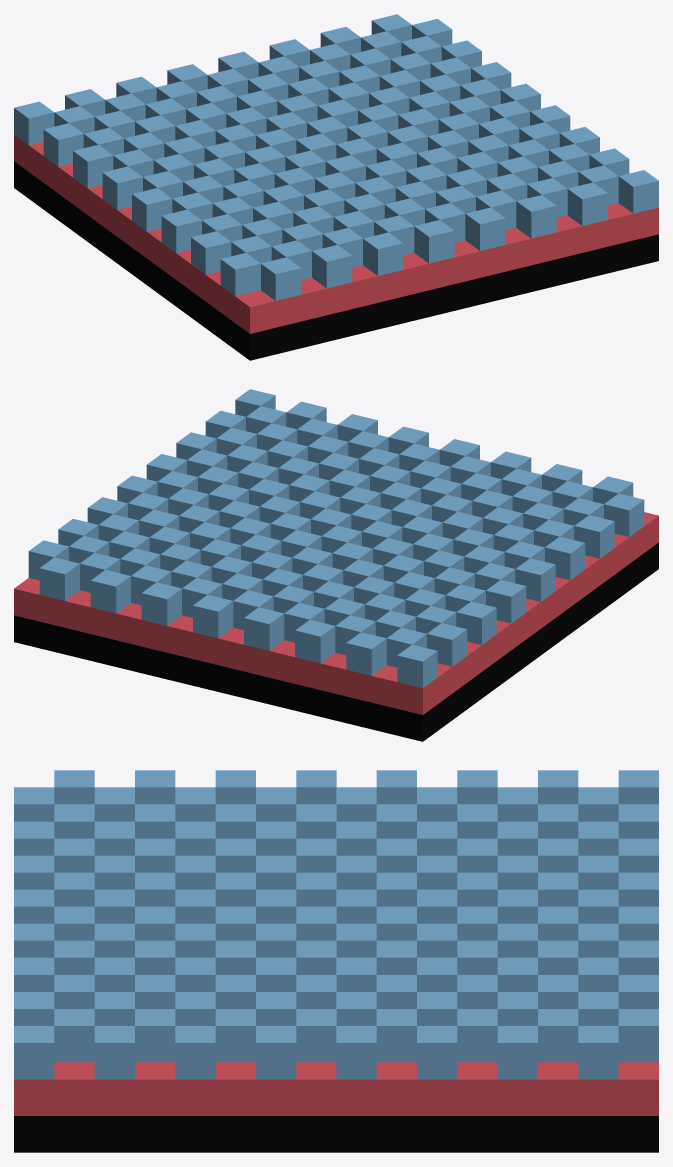
File: fromvopl.glb
3 renders of one model, top to bottom at view 1: azimuth 30°, elevation 25°; view 2: azimuth 150°, elevation 25°; view 3: azimuth 270°, elevation 25°, orthographic. The views are drawn at different scales.
Parts seen in each view (by area): view 1: ChunkMesh; view 2: ChunkMesh; view 3: ChunkMesh.
Boxes of the visible parts, bbox=[...] form: ChunkMesh: bbox=[14, 14, 658, 360]; ChunkMesh: bbox=[14, 389, 658, 741]; ChunkMesh: bbox=[14, 770, 658, 1152].
Bounding box in the file's own units: 16 × 3 × 16.
